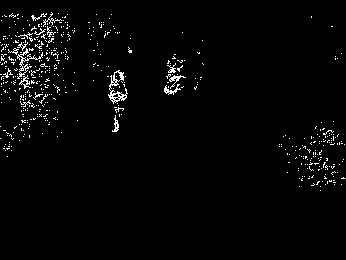person: (109, 69, 131, 138)
